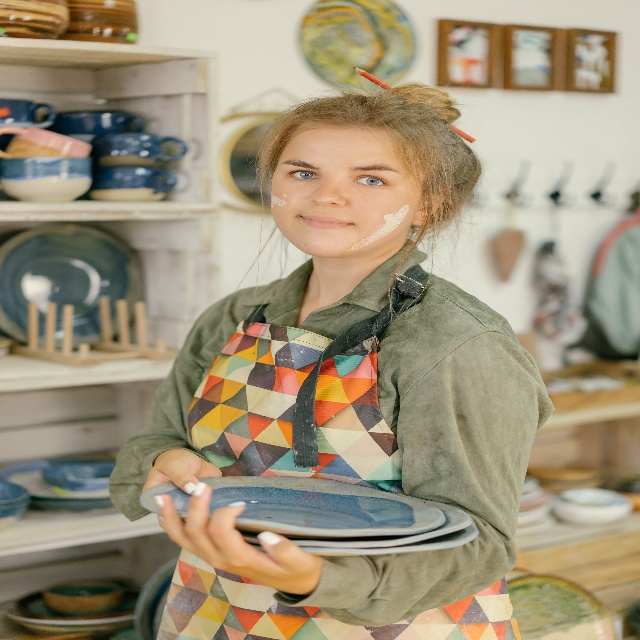Sin_guantes: (151, 486, 320, 610), (140, 446, 222, 535)
